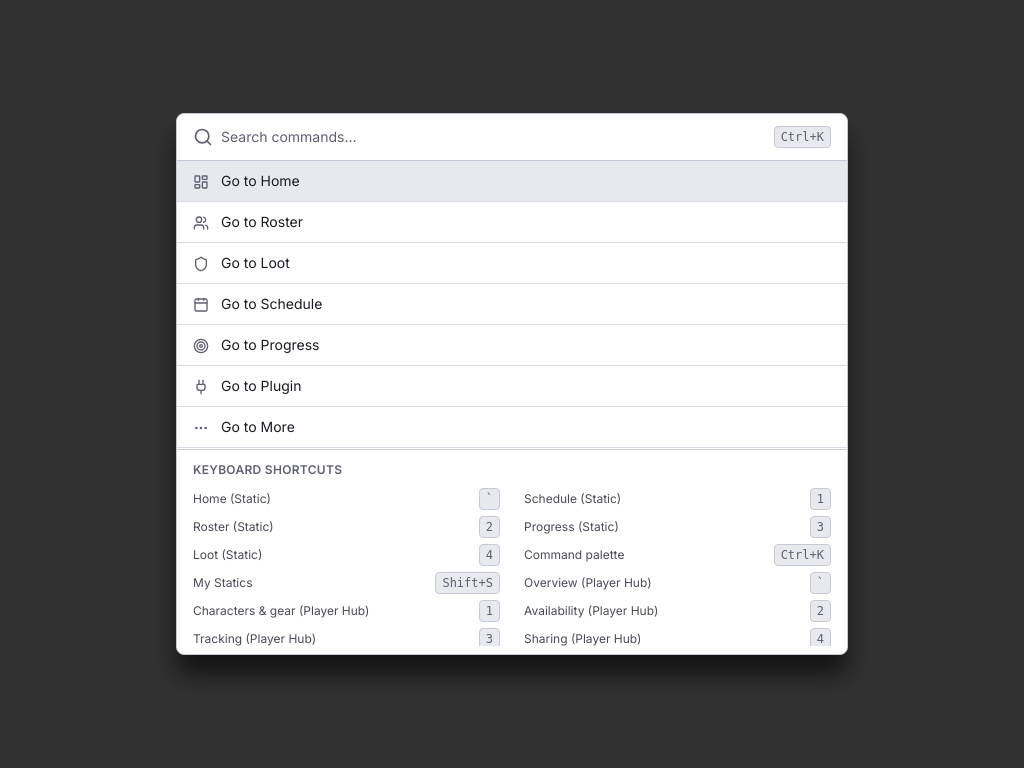
Test: CommandPalette › filters to only Roster when query is "rost"
Type "rost" into the dropdown labelled "Search commands" at x=493, y=137, box 221,127 -> 766,147
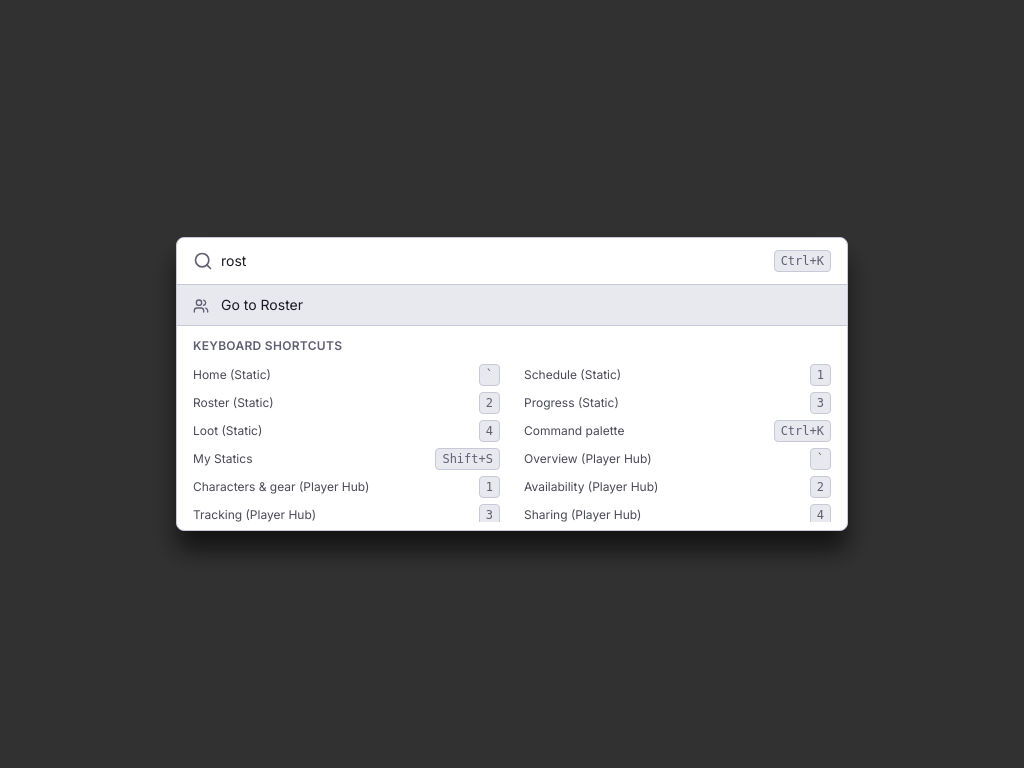
Expected: the option "Go to Home" is gone
Expected: the option "Go to Loot" is gone
Expected: the option "Go to Schedule" is gone
